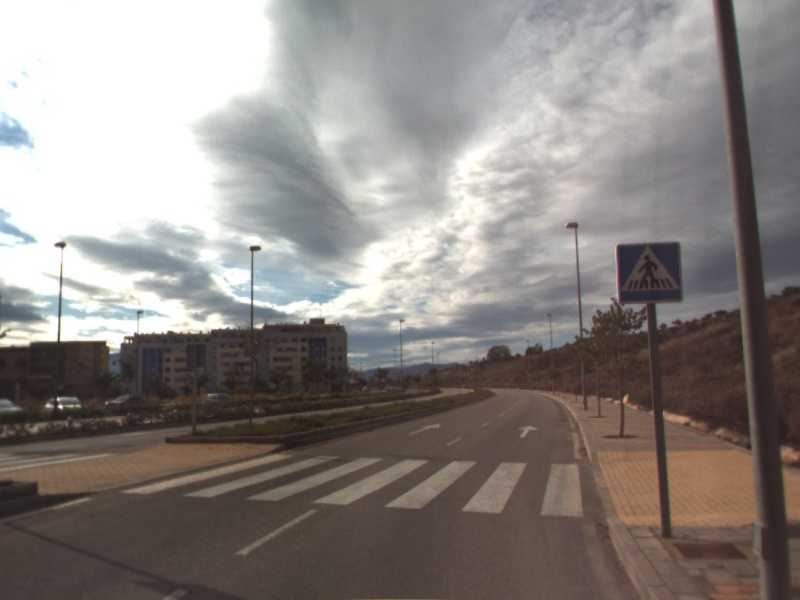STRAIGHT: (407, 421, 443, 437), (516, 423, 540, 440)
